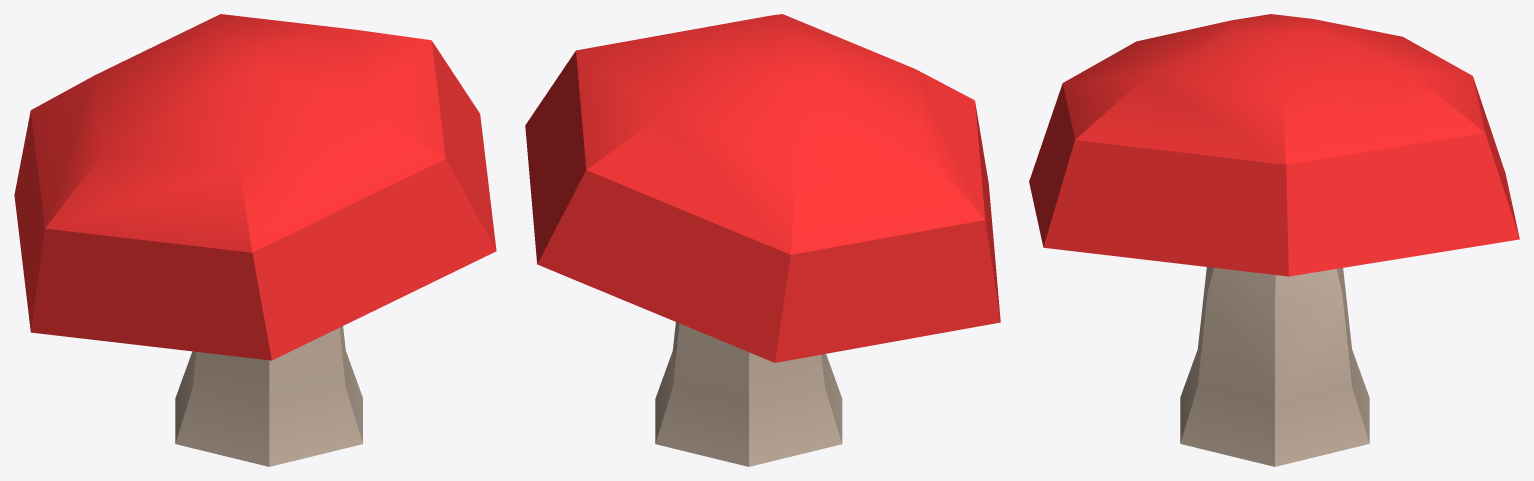
File: Vegetation_Mushroom_Red_04.fbx
3 views of the same model, side by side, from view 1: azimuth 30°, elevation 25°; view 2: azimuth 150°, elevation 25°; view 3: azimuth 270°, elevation 25° (orthographic).
Visible parts, largest first — view 1: Vegetation_Mushroom_Red_04; view 2: Vegetation_Mushroom_Red_04; view 3: Vegetation_Mushroom_Red_04.
Boxes of the visible parts, x1,y1,x2,y2 form: Vegetation_Mushroom_Red_04: (14, 14, 496, 466); Vegetation_Mushroom_Red_04: (525, 14, 1000, 466); Vegetation_Mushroom_Red_04: (1029, 14, 1519, 466).
Bounding box in the file's own units: 16.05 × 12.51 × 14.6.
